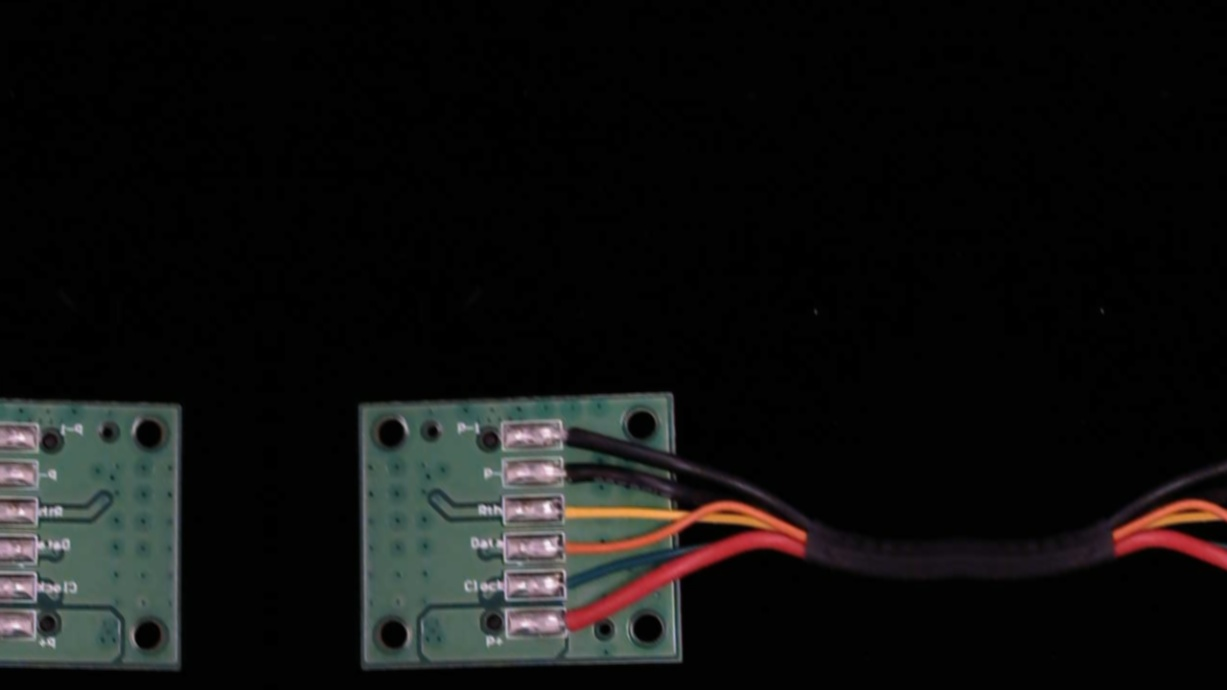Black: (546, 458, 605, 487)
Black1: (543, 417, 607, 449)
Green: (548, 567, 601, 599)
Orange: (547, 530, 607, 562)
Red: (549, 605, 616, 638)
Yellow: (547, 494, 608, 525)
